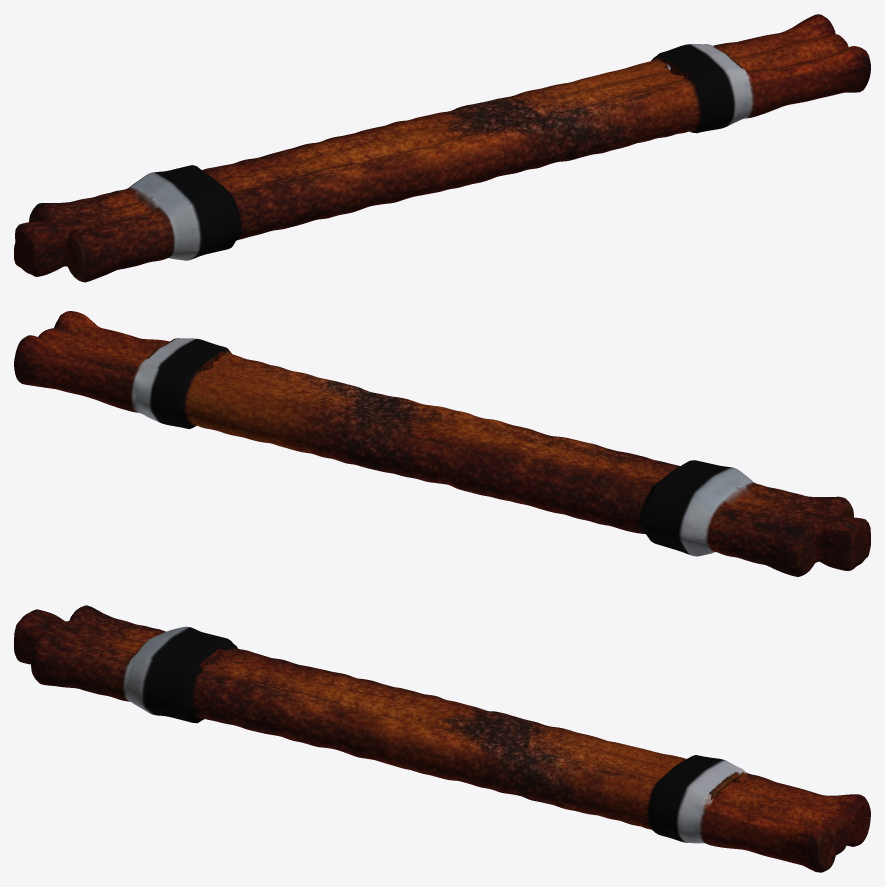
Rendered from Nail.fbx.
3 views of the same model, one above another, from view 1: azimuth 30°, elevation 25°; view 2: azimuth 150°, elevation 25°; view 3: azimuth 330°, elevation 25° (orthographic).
Visible parts, largest first — view 1: Nail; view 2: Nail; view 3: Nail.
Part boxes in pixels (x1,y1,x2,y2): Nail: (14, 14, 870, 282); Nail: (14, 311, 870, 576); Nail: (14, 605, 870, 872).
Bounding box in the file's own units: 199 × 15.91 × 25.79.
Materials: 1 (1 with a texture image).
